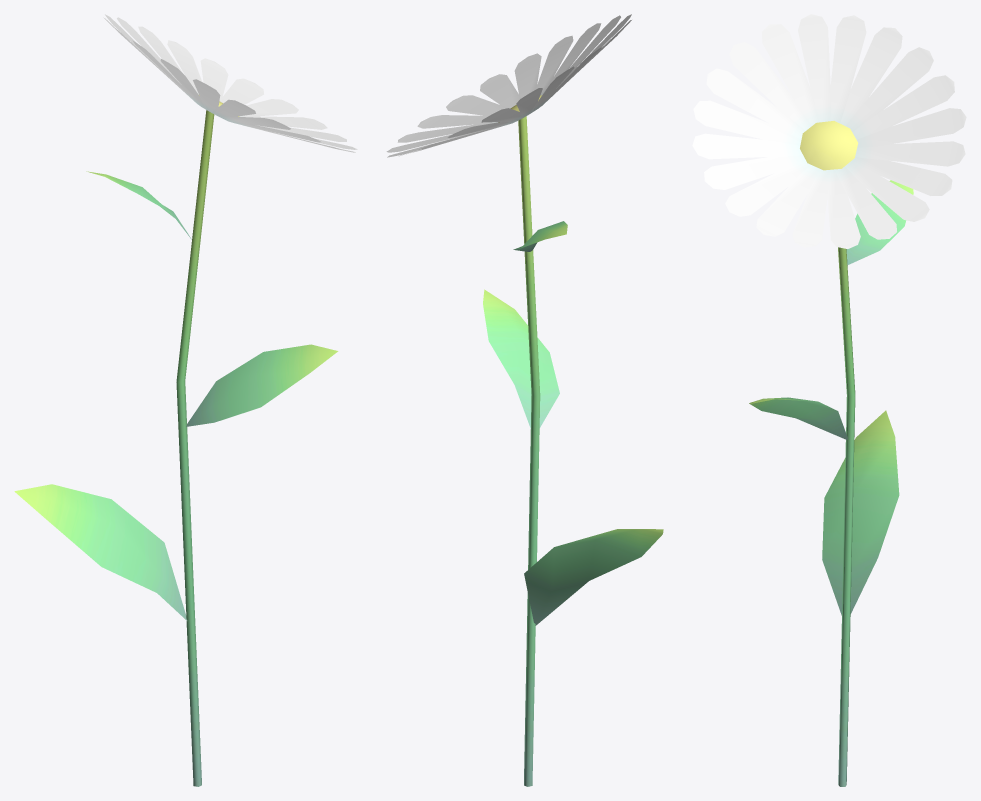
The model's file is Flower.013_Base_Material_0.fbx.
3 renders of one model, left to right at view 1: azimuth 30°, elevation 25°; view 2: azimuth 150°, elevation 25°; view 3: azimuth 270°, elevation 25°, orthographic. The views are drawn at different scales.
Visible parts, largest first — view 1: Flower.013_Base_Material_0_export; view 2: Flower.013_Base_Material_0_export; view 3: Flower.013_Base_Material_0_export.
Boxes of the visible parts, x1,y1,x2,y2 form: Flower.013_Base_Material_0_export: (14,14,357,786); Flower.013_Base_Material_0_export: (386,14,663,786); Flower.013_Base_Material_0_export: (692,14,966,786).
Bounding box in the file's own units: 0.8531 × 2.17 × 0.7341.
